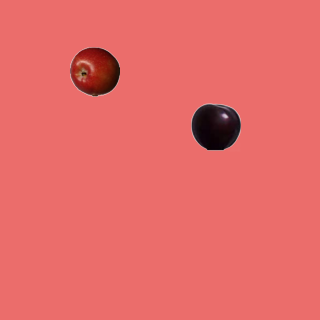Apple Braeburn: (69, 46, 119, 96)
Cherry Wax Black: (190, 101, 240, 151)
